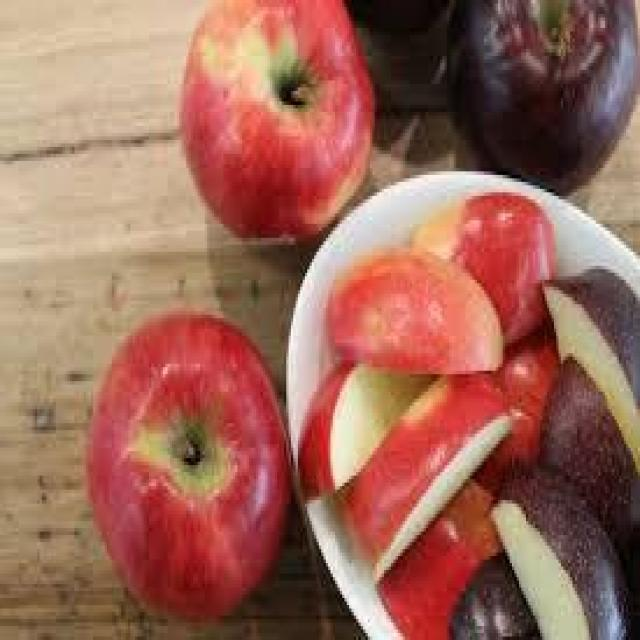maca: (296, 186, 638, 636)
